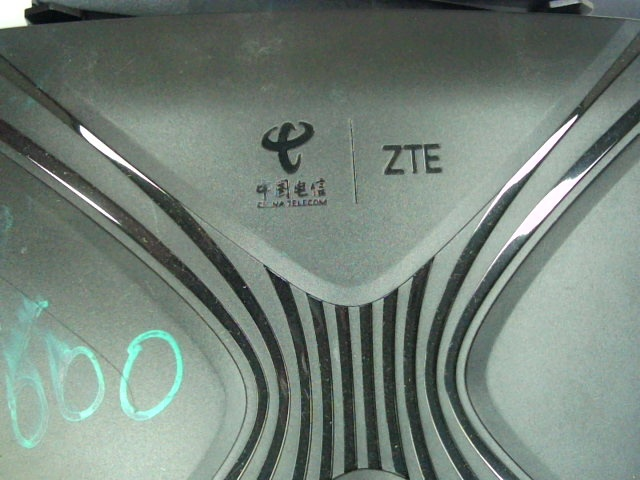AX_ZTEChinaTelecom: (229, 114, 455, 216)
